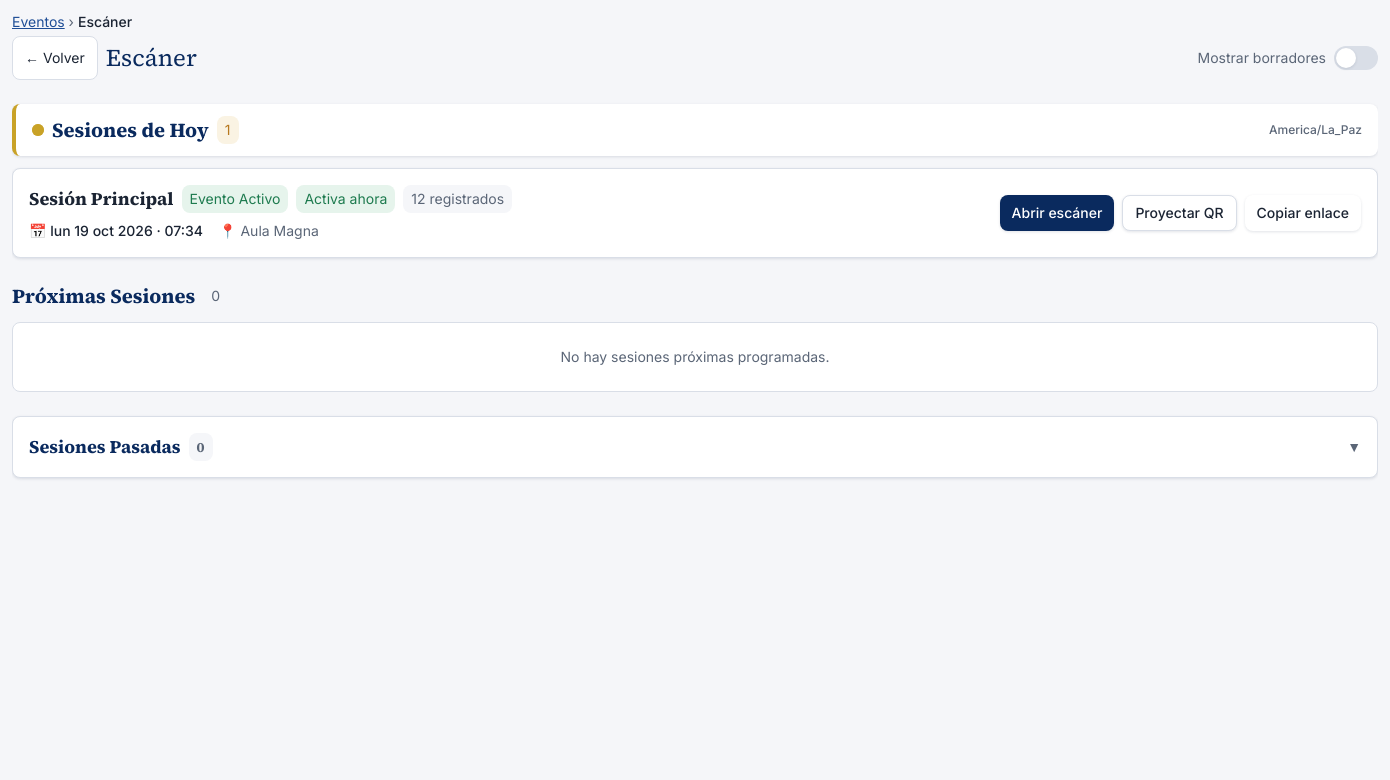
Test case: EscanerPage - Mejoras institucionales › filtra eventos en BORRADOR por defecto y los muestra con el toggle
This screenshot has width=1390, height=780.
Check: the text "Evento Activo" is shown, box [182,185,288,213]
Check: the heading "Sesión Principal" is shown, box [29,185,174,213]
Click the switch named "Mostrar borradores" at (1356, 58), box [1334,46,1378,70]
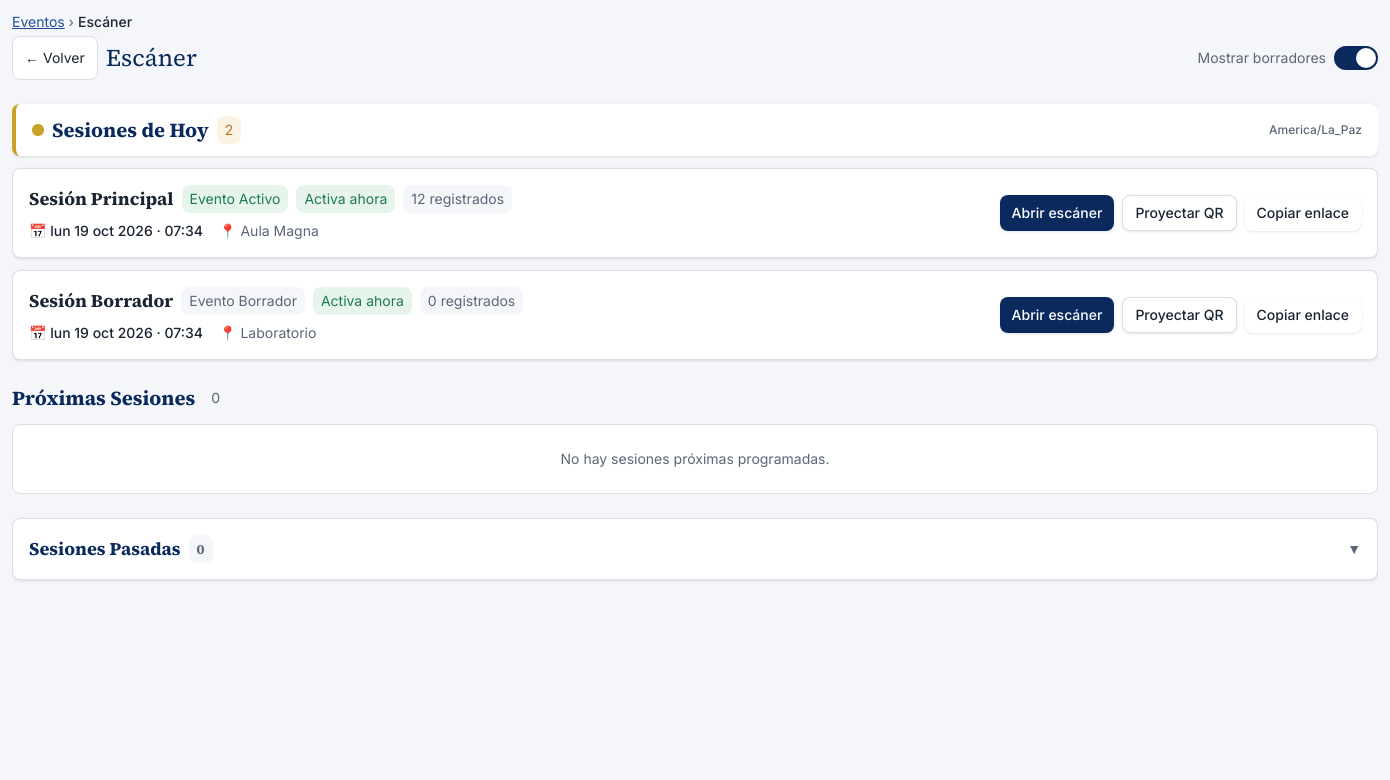
Check: the text "Evento Borrador" is shown, box [181,287,305,315]
Check: the heading "Sesión Borrador" is shown, box [29,287,173,315]
